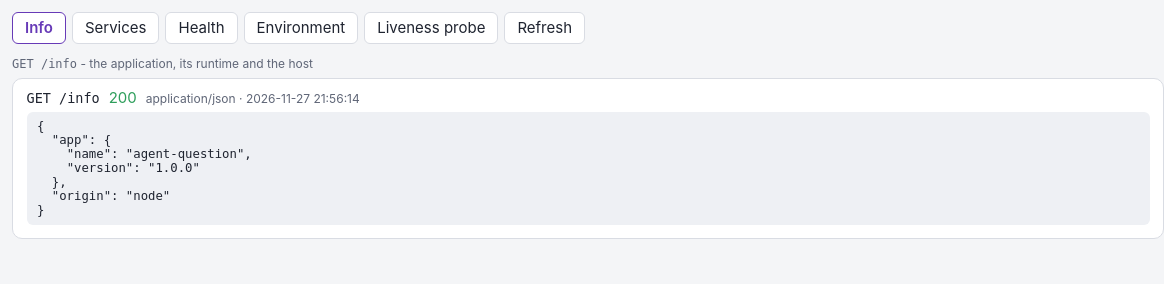
Actuator › shows an unhealthy answer with its status and refreshes on demand
Later steps or results of the test are not shown.
expect the element with test id "actuator-result" is shown: met, box top-left (12, 78), bottom-right (1163, 239)
Click the button "Health" at (202, 28), box top-left (166, 12), bottom-right (238, 44)
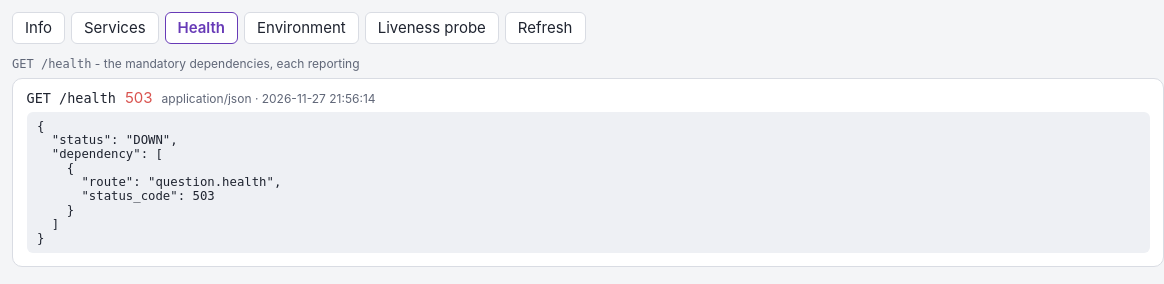
expect the element with test id "actuator-result" shows "GET /health": met
expect the text with class "status-bad" reads "503": met, box top-left (125, 88), bottom-right (152, 107)
